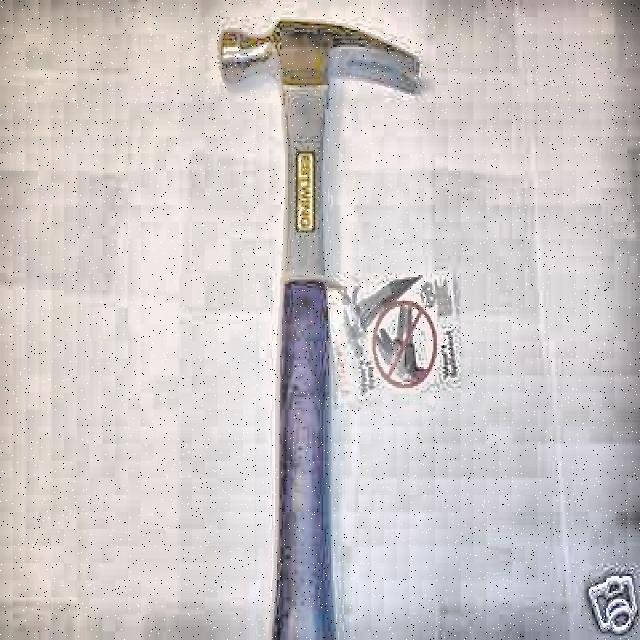hammer: (217, 15, 423, 640)
